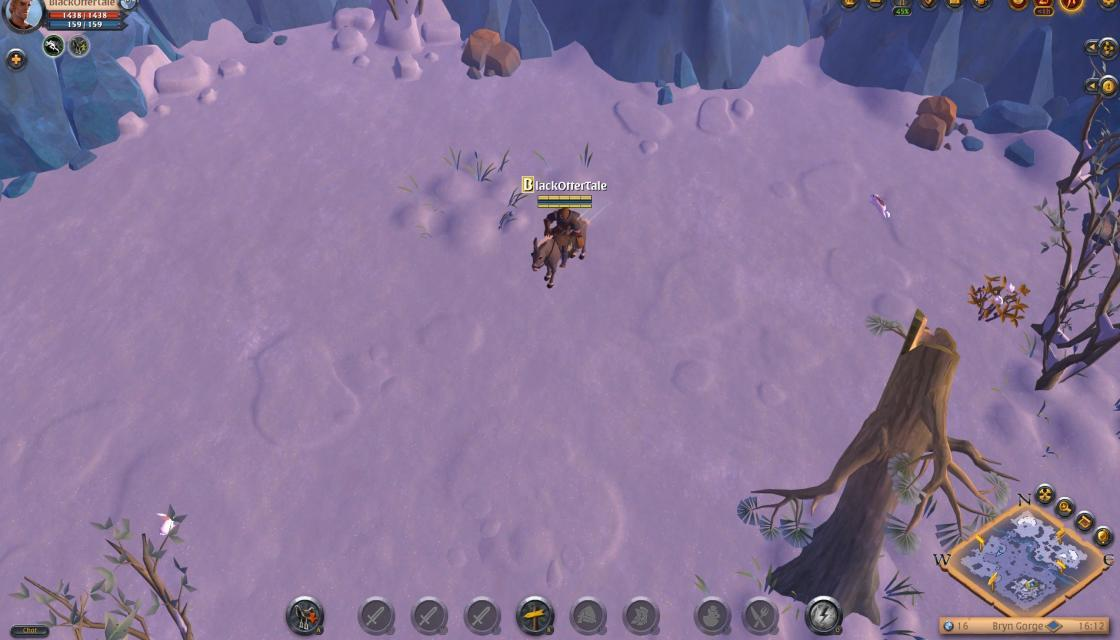limestone: (460, 25, 522, 81), (904, 92, 960, 154)
